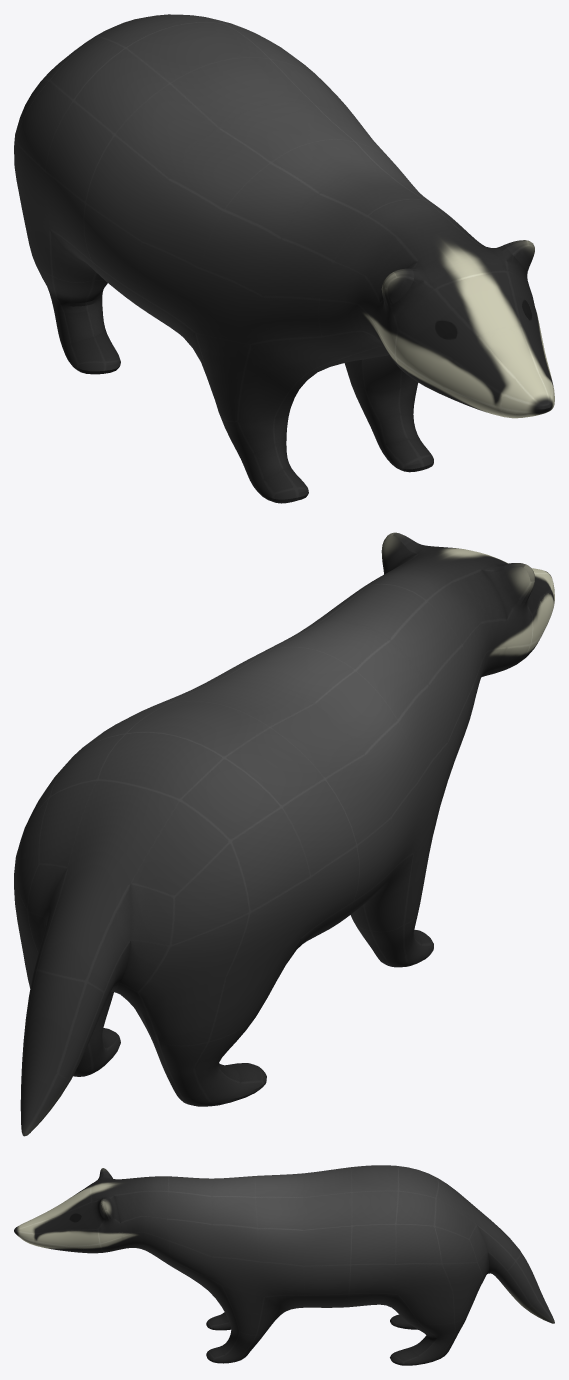
File: Badger.obj
3 renders of one model, top to bottom at view 1: azimuth 30°, elevation 25°; view 2: azimuth 150°, elevation 25°; view 3: azimuth 270°, elevation 25°, orthographic. The views are drawn at different scales.
Visible parts, largest first — view 1: Default; view 2: Default; view 3: Default.
Boxes of the visible parts, box(x1,y1,x2,y2) form: Default: box(14, 14, 554, 503); Default: box(14, 532, 554, 1136); Default: box(14, 1165, 554, 1365).
Size of the model in its own units: 0.3116 by 0.3573 by 1.02.
Materials: 1 (1 with a texture image).
